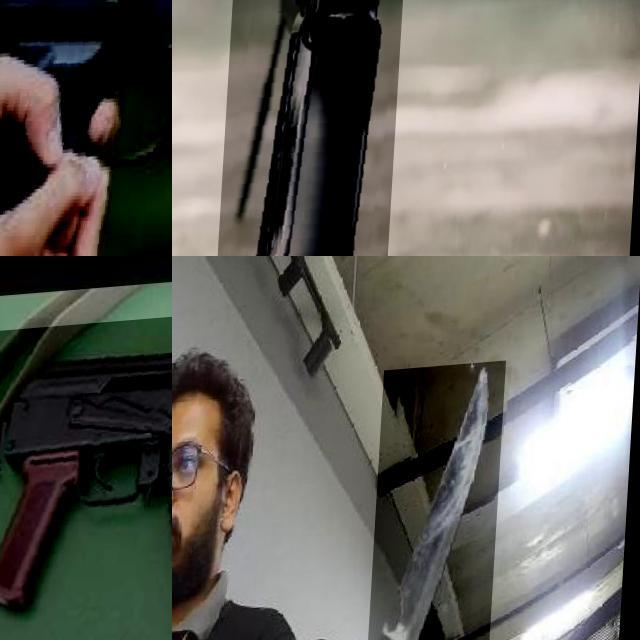-: (373, 369, 510, 640)
gun-knife-thesis - v11 Yolov5 augmented: (0, 293, 172, 640), (213, 0, 413, 256), (0, 0, 172, 256)
